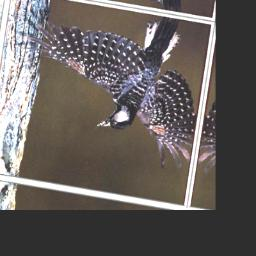Woodpecker: (8, 0, 211, 169)
